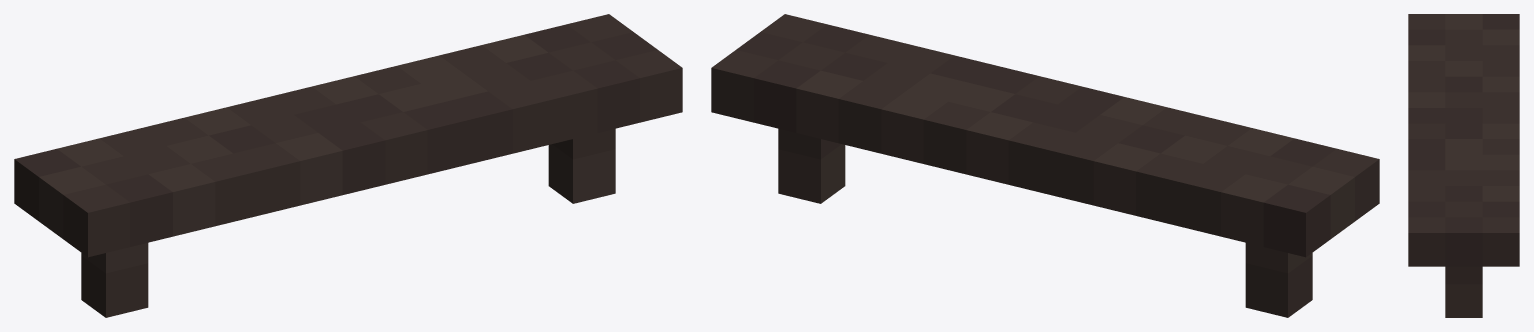
Rendered from banco.obj.
The picture shows the model from 3 angles, left to right: view 1: azimuth 30°, elevation 25°; view 2: azimuth 150°, elevation 25°; view 3: azimuth 270°, elevation 25°; orthographic projection. The views are drawn at different scales.
Size of the model in its own units: 1.4 by 0.3 by 0.3.
Materials: 1 (1 with a texture image).
